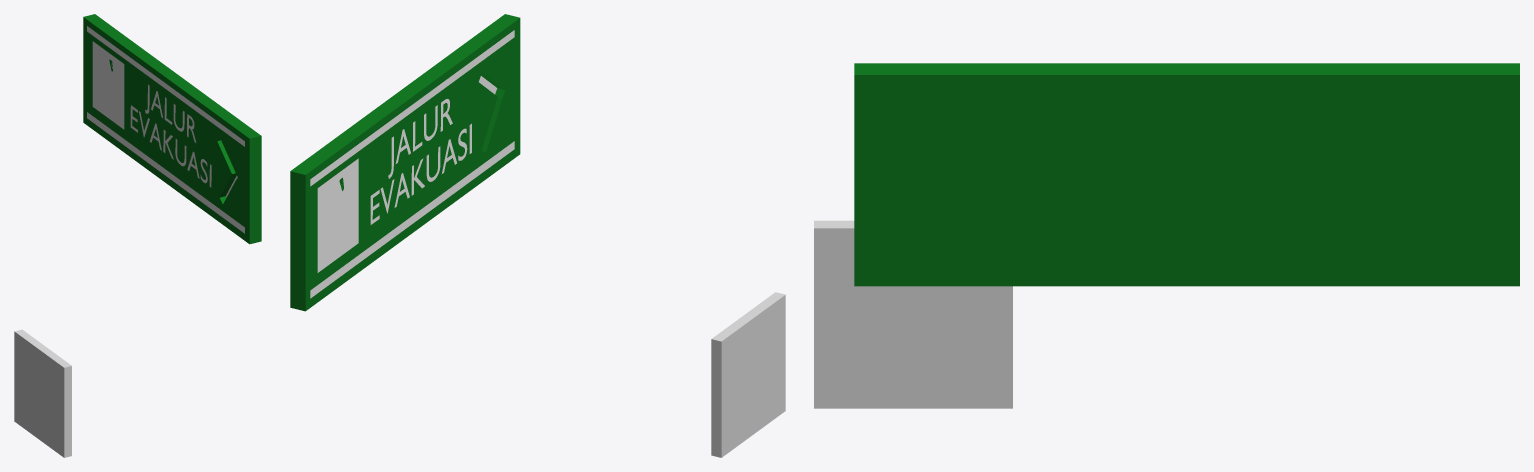
The model's file is Jalur Evakuasi.fbx.
The picture shows the model from 3 angles, left to right: view 1: azimuth 30°, elevation 25°; view 2: azimuth 150°, elevation 25°; view 3: azimuth 270°, elevation 25°; orthographic projection. The views are drawn at different scales.
Parts seen in each view (by area): view 1: Cube, Cube.001, Cube.010, Text; view 2: Cube, Cube.001, Cube.010, Text; view 3: Cube.010, Cube.001, Cube.
Part boxes in pixels (<box>): Cube: <box>83,15,255,244</box>; Cube.001: <box>14,329,71,457</box>; Cube.010: <box>90,14,261,242</box>; Text: <box>130,84,211,187</box>; Cube: <box>297,16,520,311</box>; Cube.001: <box>711,292,785,457</box>; Cube.010: <box>290,14,511,309</box>; Text: <box>370,99,471,224</box>; Cube.010: <box>854,69,1519,286</box>; Cube.001: <box>814,220,1012,408</box>; Cube: <box>854,63,1519,69</box>.
Size of the model in its own units: 481 by 586 by 710.
